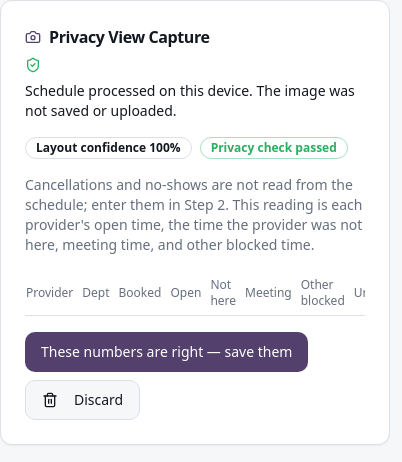
Test: leaves cancellations and no-shows to Step 2 when the posted view has no colors for them
Earlier steps of the test are not shown.
Expected: the text "Cancellations and no-shows are not read from the schedule" is shown, x1=25 y1=175 x2=362 y2=254
Step 1. Click the button "These numbers are right — save them" → click(167, 352), box x1=25 y1=332 x2=308 y2=372
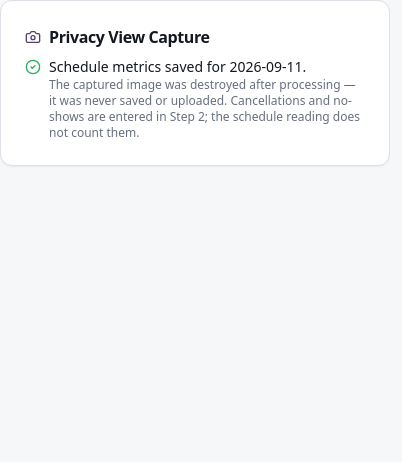
Expected: the text "Cancellations and no-shows are entered in Step 2" is shown, x1=49 y1=92 x2=360 y2=141
